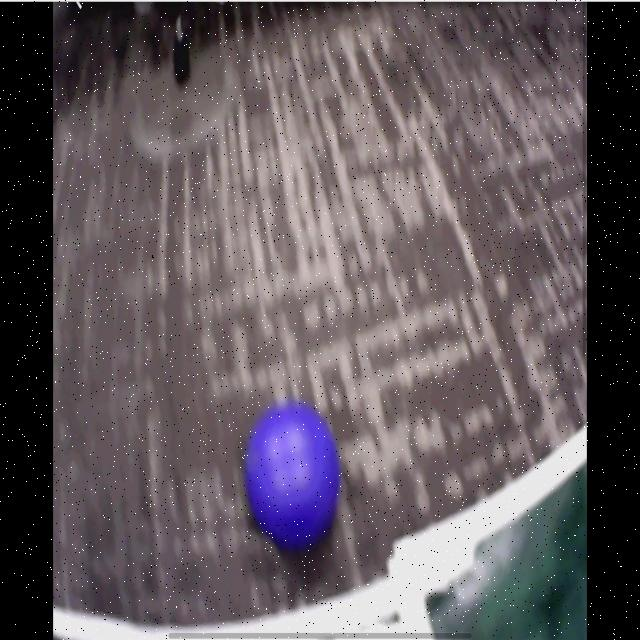ball: (249, 405, 342, 548)
